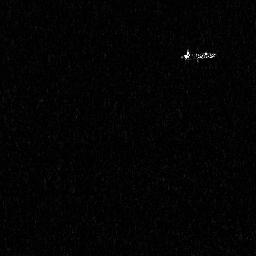ship: (178, 46, 217, 66)
